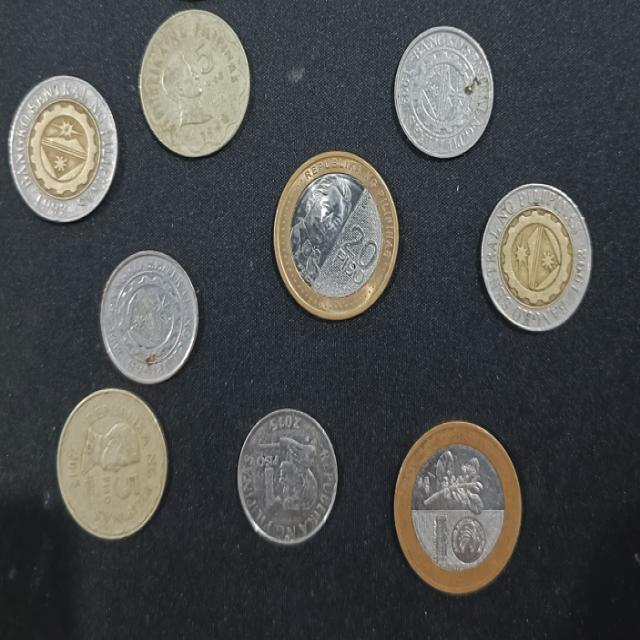10_peso: (482, 184, 591, 330), (9, 76, 117, 217)
1_peso: (238, 410, 337, 544), (100, 251, 197, 383), (395, 27, 493, 156)
20_peso: (394, 422, 520, 592), (275, 152, 398, 319)
5_peso: (57, 390, 167, 538), (140, 11, 249, 156)
